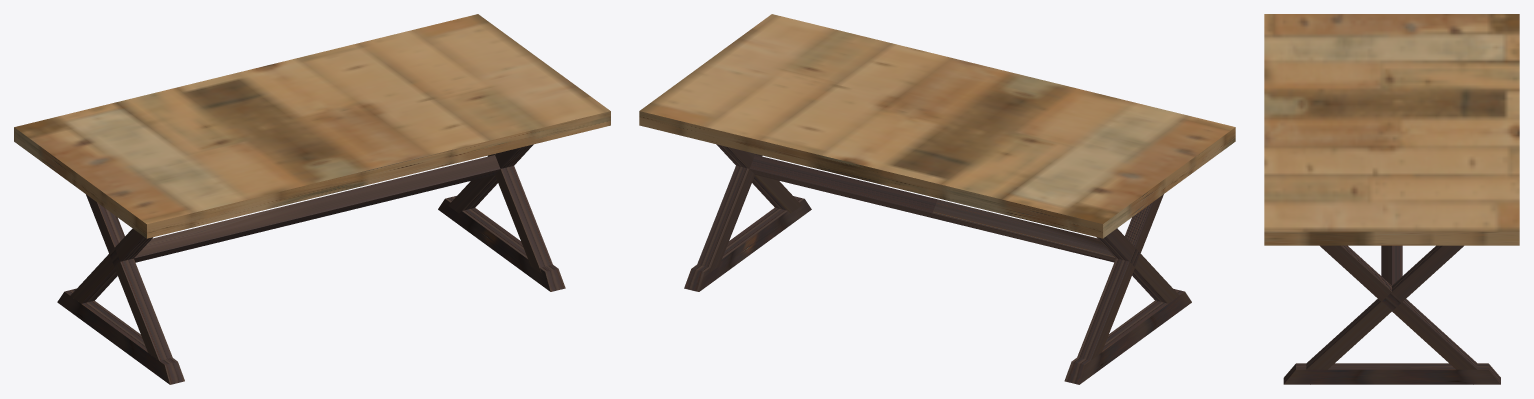
File: Alchemy Assets Browser.fbx_Table.fbx
The picture shows the model from 3 angles, left to right: view 1: azimuth 30°, elevation 25°; view 2: azimuth 150°, elevation 25°; view 3: azimuth 270°, elevation 25°; orthographic projection. The views are drawn at different scales.
Visible parts, largest first — view 1: Table; view 2: Table; view 3: Table.
Part boxes in pixels (x1=…): Table: x1=14, y1=14, x2=610, y2=384; Table: x1=639, y1=14, x2=1235, y2=384; Table: x1=1264, y1=14, x2=1519, y2=384.
Bounding box in the file's own units: 200 × 72.84 × 99.05.
